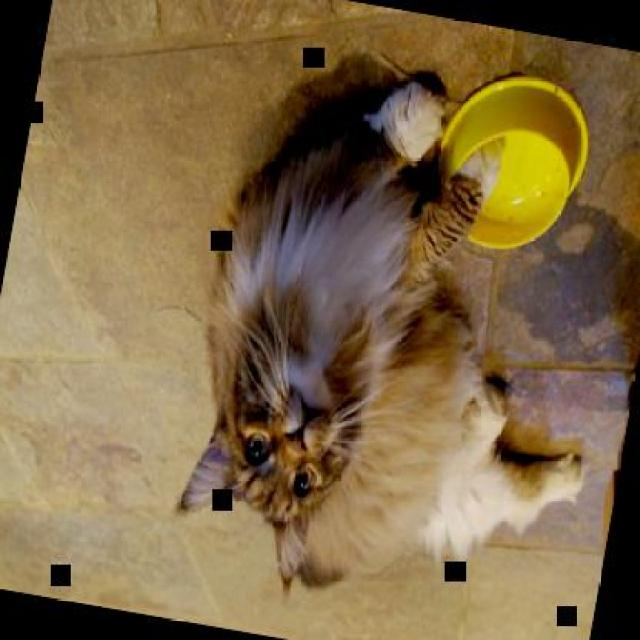cat: (166, 52, 639, 634)
